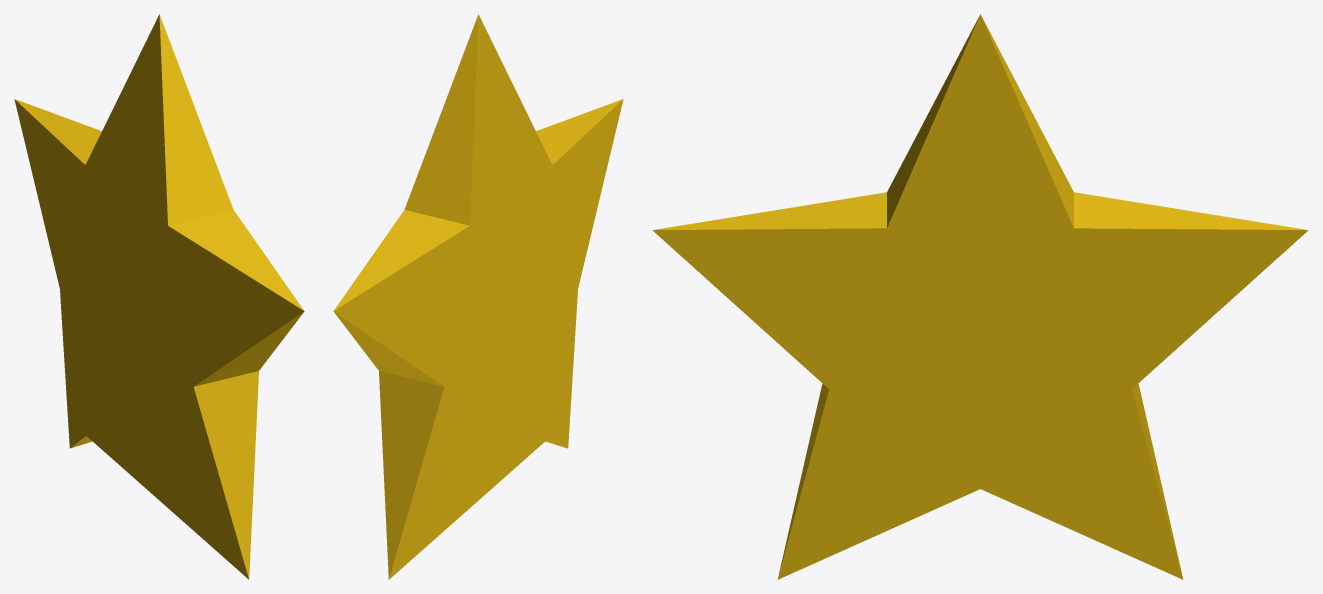
The model's file is LevelPegStar.fbx.
3 renders of one model, left to right at view 1: azimuth 30°, elevation 25°; view 2: azimuth 150°, elevation 25°; view 3: azimuth 270°, elevation 25°, orthographic. The views are drawn at different scales.
Visible parts, largest first — view 1: Cylinder.001; view 2: Cylinder.001; view 3: Cylinder.001.
Boxes of the visible parts, left/top/right/bottom form: Cylinder.001: left=14, top=14, right=304, bottom=579; Cylinder.001: left=333, top=14, right=623, bottom=579; Cylinder.001: left=652, top=14, right=1308, bottom=579.
Size of the model in its own units: 40.09 by 181 by 190.
